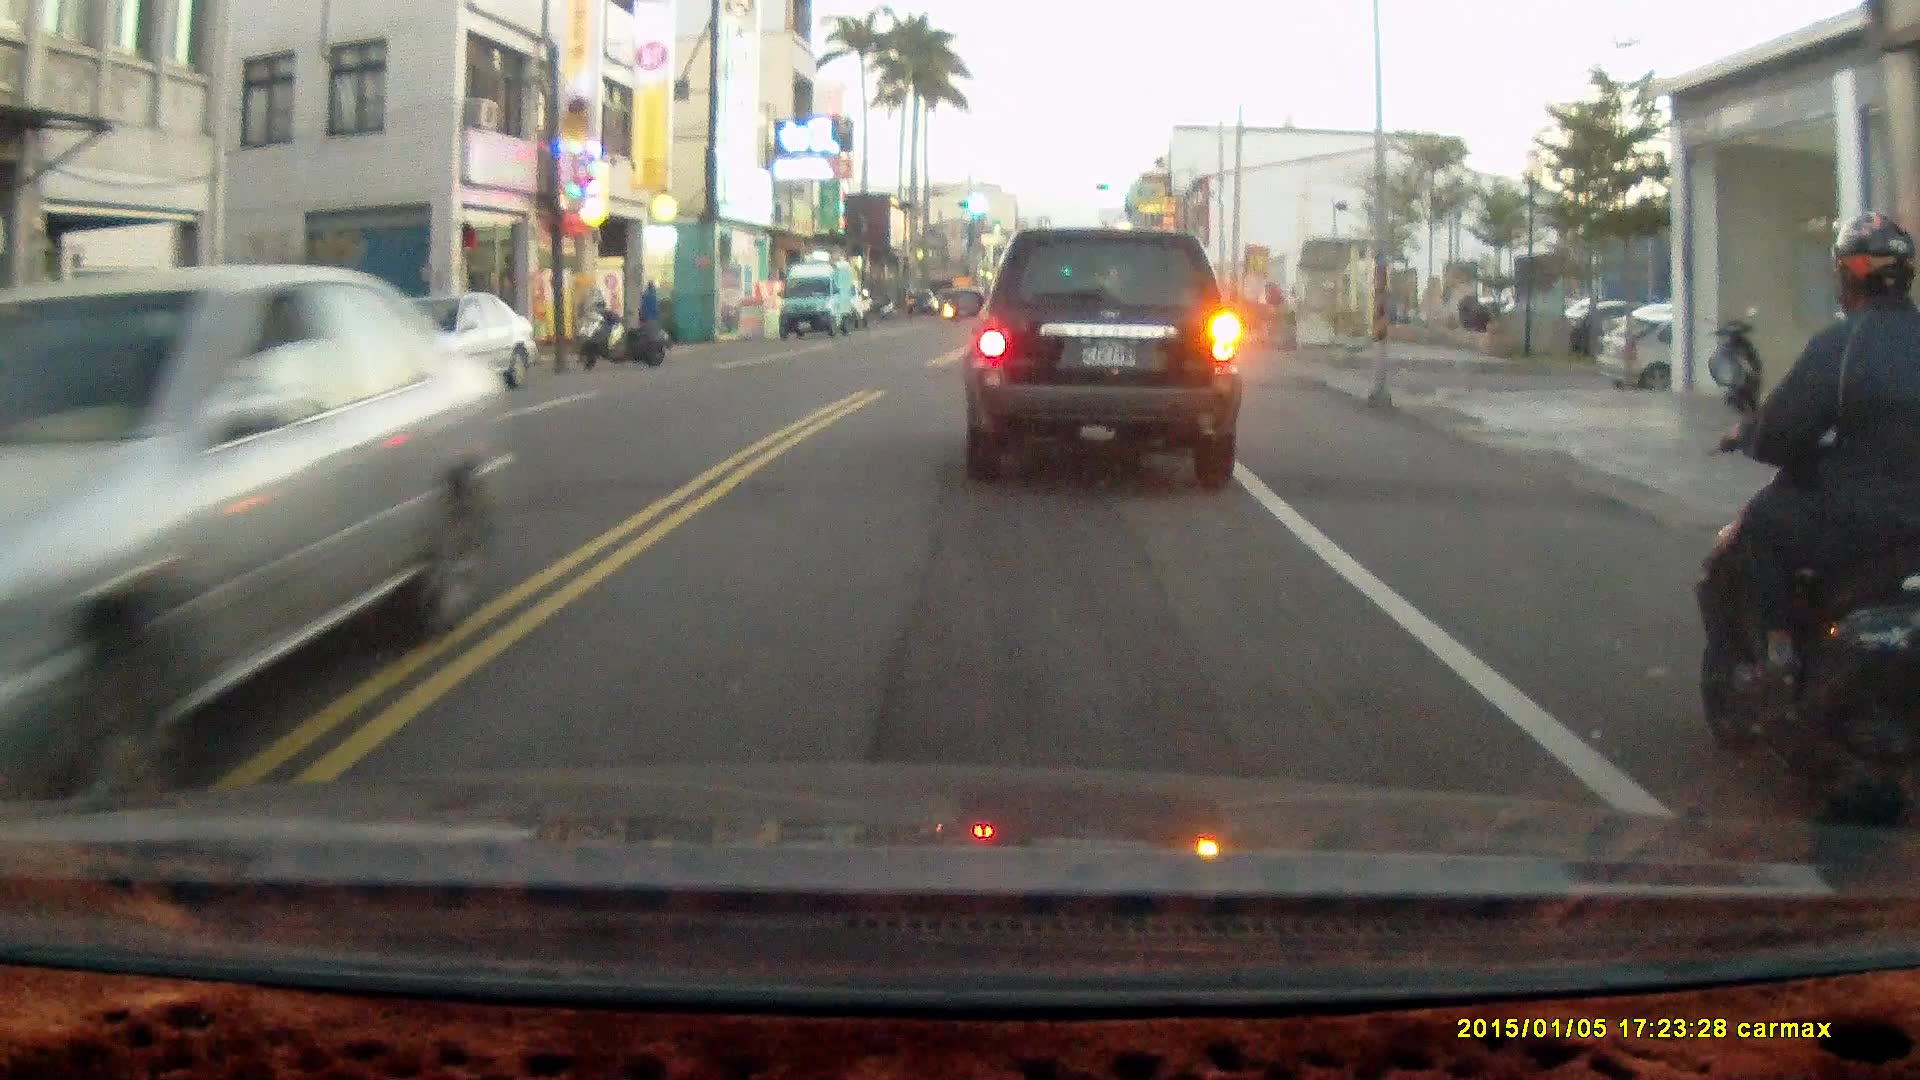pedestrian: (633, 273, 662, 350)
rider: (1687, 209, 1920, 841)
vehicle: (1, 266, 487, 801), (973, 223, 1249, 491), (306, 292, 540, 409), (1598, 317, 1815, 403), (778, 263, 865, 342)
